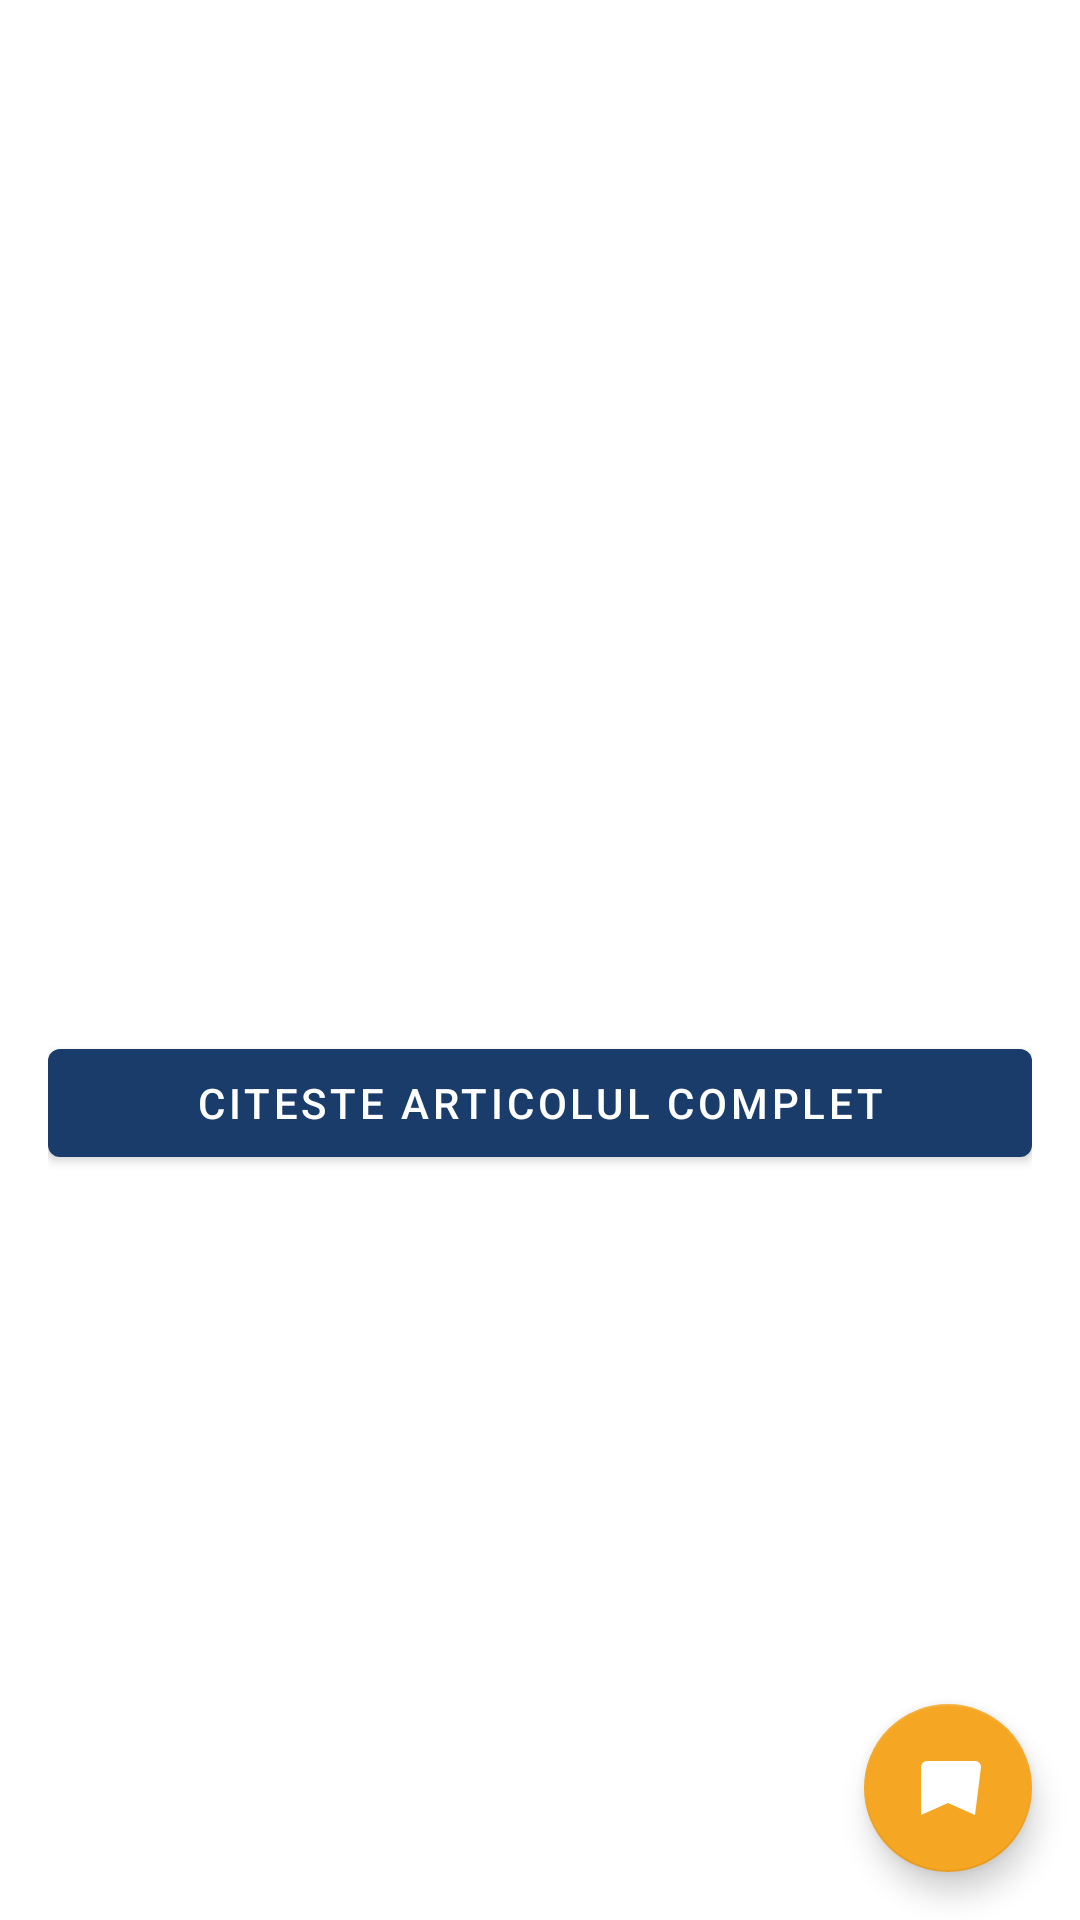

Named icons in this screenshot (1080w x 1920h) and their bounding boxes, (x1, y1, x2, y2):
Salveaza stire: (864, 1704, 1032, 1872)
